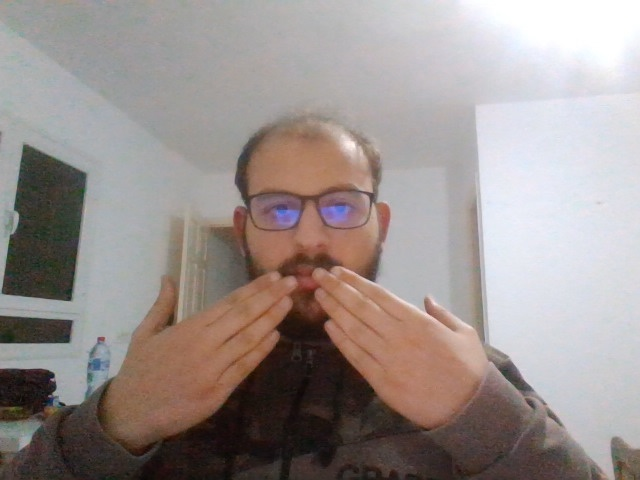Thank You: (135, 269, 474, 428)
